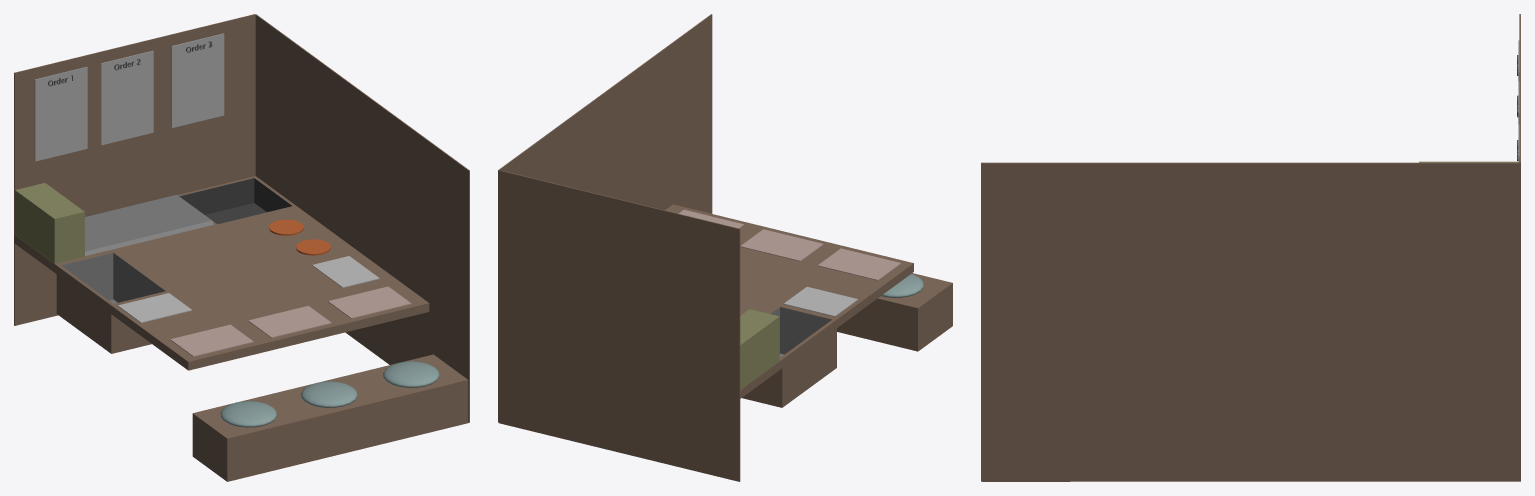
File: Game_Scene_Sample.fbx
The picture shows the model from 3 angles, left to right: view 1: azimuth 30°, elevation 25°; view 2: azimuth 150°, elevation 25°; view 3: azimuth 270°, elevation 25°; orthographic projection. The views are drawn at different scales.
Visible parts, largest first — view 1: pasted__pCube1, pCube1, pCube2, pCube3, pCube4, pCube10, pCube12, pCube11, pCube5, pCube7, pCube6, pCube8 (+4 smaller); view 2: pCube2, pasted__pCube1, pCube1, pCube3, pCube4, pCube7, pCube6, pCube8, pSphere1; view 3: pasted__pCube1, pCube2.
Part boxes in pixels (<box>): pasted__pCube1: <box>255,14,469,422</box>; pCube1: <box>14,176,429,370</box>; pCube2: <box>14,14,255,325</box>; pCube3: <box>192,354,468,481</box>; pCube4: <box>15,183,213,263</box>; pCube10: <box>34,67,87,161</box>; pCube12: <box>171,33,224,127</box>; pCube11: <box>101,50,153,145</box>; pCube5: <box>328,286,411,318</box>; pCube7: <box>170,324,253,356</box>; pCube6: <box>248,306,331,337</box>; pCube8: <box>118,293,192,322</box>; pCube2: <box>498,170,740,481</box>; pasted__pCube1: <box>498,14,712,422</box>; pCube1: <box>665,204,913,407</box>; pCube3: <box>837,273,952,351</box>; pCube4: <box>740,309,779,389</box>; pCube7: <box>817,248,901,280</box>; pCube6: <box>740,229,823,261</box>; pCube8: <box>784,286,857,316</box>; pSphere1: <box>881,274,923,297</box>; pasted__pCube1: <box>981,162,1519,481</box>; pCube2: <box>1519,14,1520,481</box>.
Size of the model in its own units: 241 by 241 by 369.
